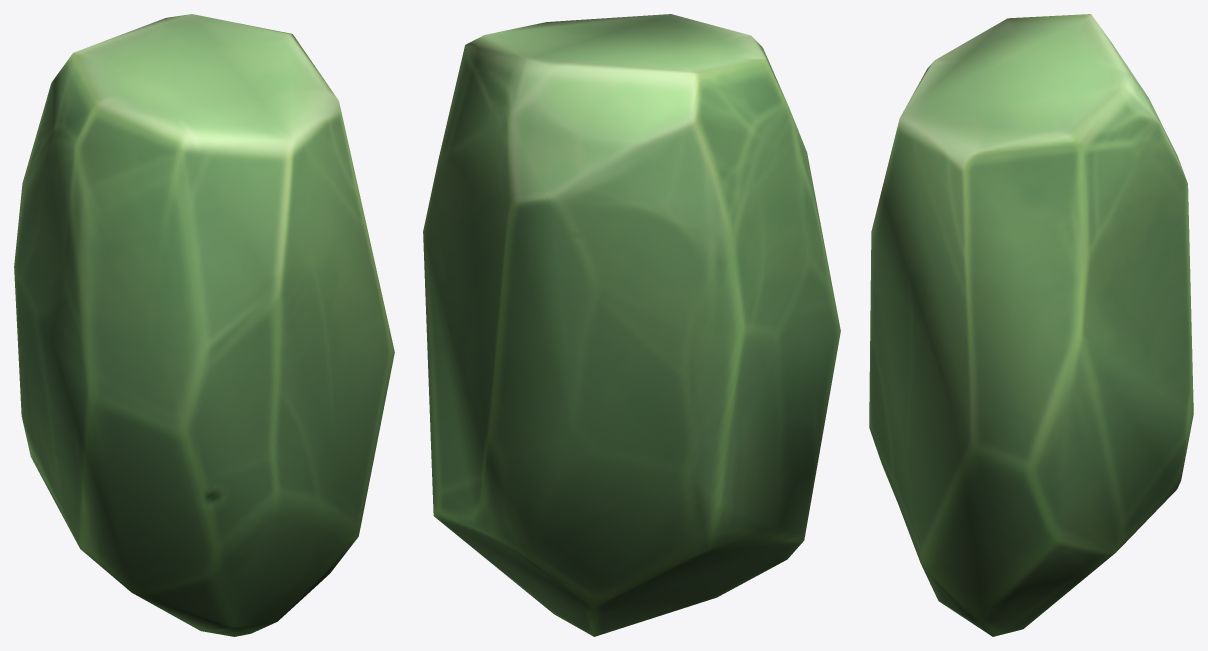
File: SM_Gem_Jade_004.fbx
3 views of the same model, side by side, from view 1: azimuth 30°, elevation 25°; view 2: azimuth 150°, elevation 25°; view 3: azimuth 270°, elevation 25° (orthographic). The views are drawn at different scales.
Visible parts, largest first — view 1: SM_Gem_Jade_004; view 2: SM_Gem_Jade_004; view 3: SM_Gem_Jade_004.
Boxes of the visible parts, x1,y1,x2,y2 form: SM_Gem_Jade_004: (14, 14, 394, 636); SM_Gem_Jade_004: (423, 14, 840, 636); SM_Gem_Jade_004: (869, 14, 1193, 636).
Size of the model in its own units: 23.85 by 38.41 by 20.83.
